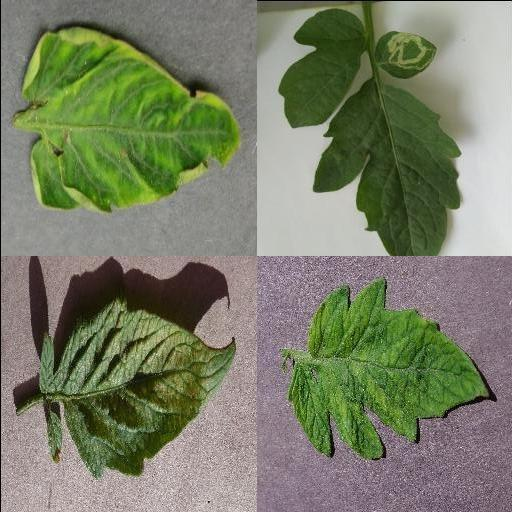Healthy: (312, 76, 463, 256), (277, 7, 368, 127)
Leaf Miner: (375, 30, 437, 80)
Mosaic Virus: (285, 274, 491, 460)
Spider Mites: (57, 300, 235, 478)
Yellow Leaf Curl Virus: (19, 27, 241, 213)
